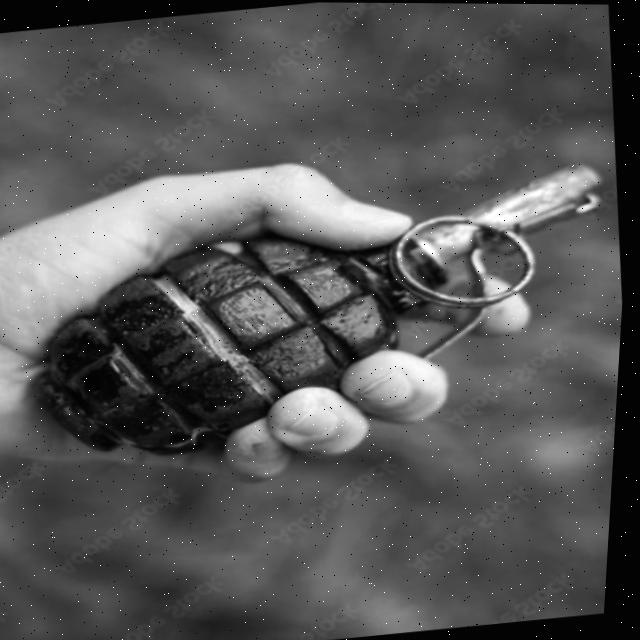grenade: (5, 112, 635, 506)
